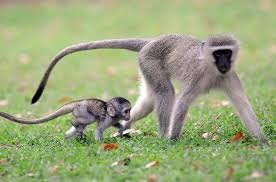monkey: (35, 29, 269, 144), (1, 95, 133, 145)
